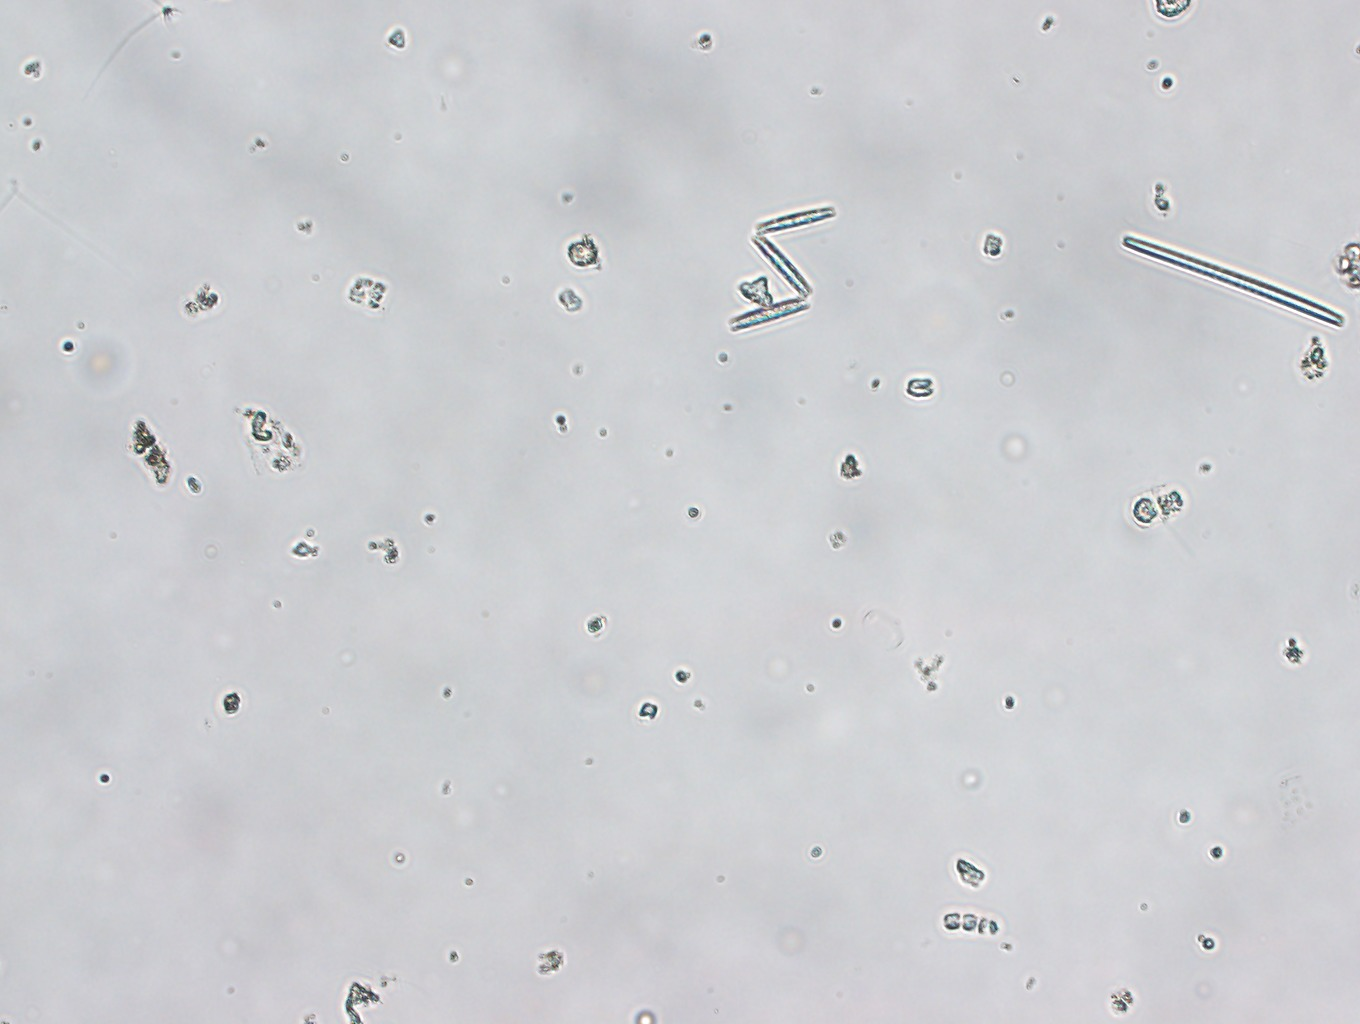thalassionema nitzschioides: (711, 198, 838, 336)
